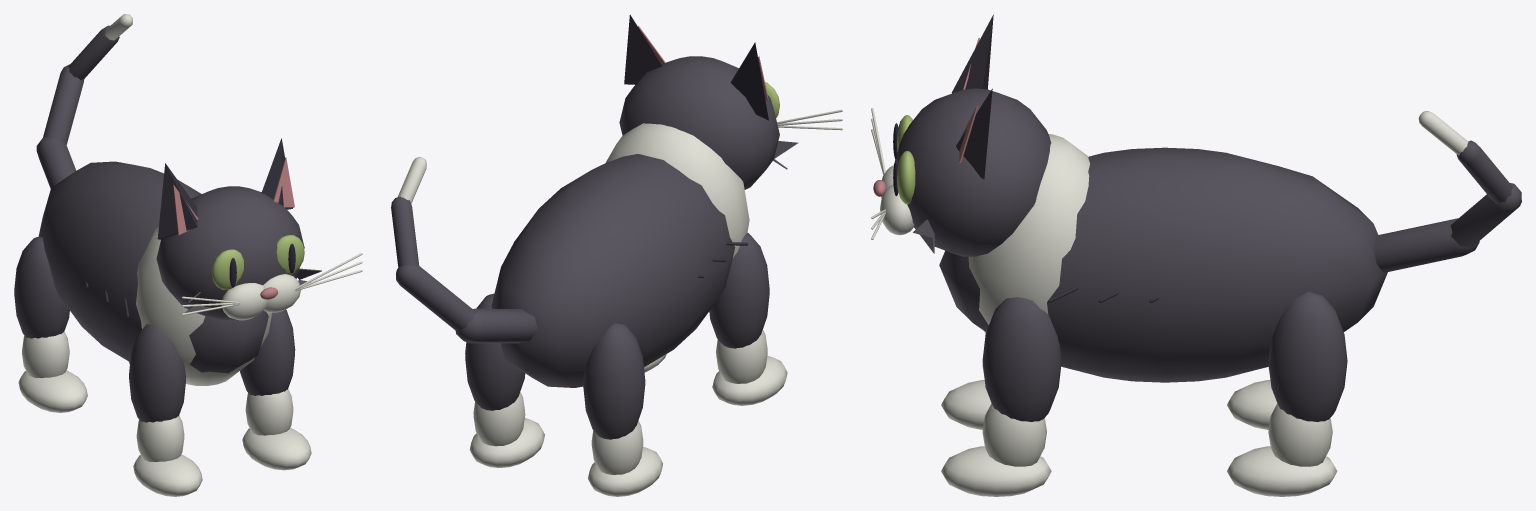
Rendered from cat.glb.
The picture shows the model from 3 angles, left to right: view 1: azimuth 30°, elevation 25°; view 2: azimuth 150°, elevation 25°; view 3: azimuth 270°, elevation 25°; orthographic projection. The views are drawn at different scales.
Parts seen in each view (by area): view 1: Torso, Head, Chest, Upper_leg, Upper_leg.002, Upper_leg.001, Paw.002, Paw, Paw.001, Sock, Sock.002, Sock.001 (+12 smaller); view 2: Torso, Head, Chest, Upper_leg.002, Upper_leg, Upper_leg.003, Tapered_tail_segment.001, Tapered_tail_segment, Paw, Paw.002, Paw.003, Sock.002 (+6 smaller); view 3: Torso, Head, Chest, Upper_leg.003, Upper_leg.001, Paw.001, Paw.003, Tapered_tail_segment, Sock.001, Sock.003, Tapered_tail_segment.001, Paw (+7 smaller).
Part boxes in pixels (bbox=[...]): Torso: bbox=[38, 161, 268, 373]; Head: bbox=[156, 186, 304, 319]; Chest: bbox=[136, 226, 272, 385]; Upper_leg: bbox=[129, 324, 185, 422]; Upper_leg.002: bbox=[14, 237, 69, 338]; Upper_leg.001: bbox=[240, 309, 295, 395]; Paw.002: bbox=[18, 370, 87, 412]; Paw: bbox=[133, 454, 202, 496]; Paw.001: bbox=[242, 427, 311, 470]; Sock: bbox=[136, 415, 184, 461]; Sock.002: bbox=[22, 332, 69, 378]; Sock.001: bbox=[245, 389, 293, 435]; Torso: bbox=[491, 154, 734, 387]; Head: bbox=[619, 56, 779, 189]; Chest: bbox=[605, 123, 749, 258]; Upper_leg.002: bbox=[583, 323, 645, 439]; Upper_leg: bbox=[709, 233, 769, 348]; Upper_leg.003: bbox=[465, 293, 525, 410]; Tapered_tail_segment.001: bbox=[396, 264, 476, 331]; Tapered_tail_segment: bbox=[455, 308, 537, 343]; Paw: bbox=[712, 355, 787, 405]; Paw.002: bbox=[588, 446, 662, 496]; Paw.003: bbox=[469, 418, 544, 467]; Sock.002: bbox=[591, 420, 643, 474]; Torso: bbox=[939, 147, 1387, 382]; Head: bbox=[896, 88, 1051, 256]; Chest: bbox=[968, 134, 1089, 333]; Upper_leg.003: bbox=[1268, 292, 1347, 421]; Upper_leg.001: bbox=[982, 297, 1061, 421]; Paw.001: bbox=[941, 446, 1051, 496]; Paw.003: bbox=[1227, 446, 1337, 496]; Tapered_tail_segment: bbox=[1373, 218, 1479, 272]; Sock.001: bbox=[982, 403, 1046, 466]; Sock.003: bbox=[1268, 403, 1332, 466]; Tapered_tail_segment.001: bbox=[1450, 183, 1521, 248]; Paw: bbox=[941, 380, 991, 429].
Bounding box in the file's own units: 0.2819 × 0.4893 × 0.706.
